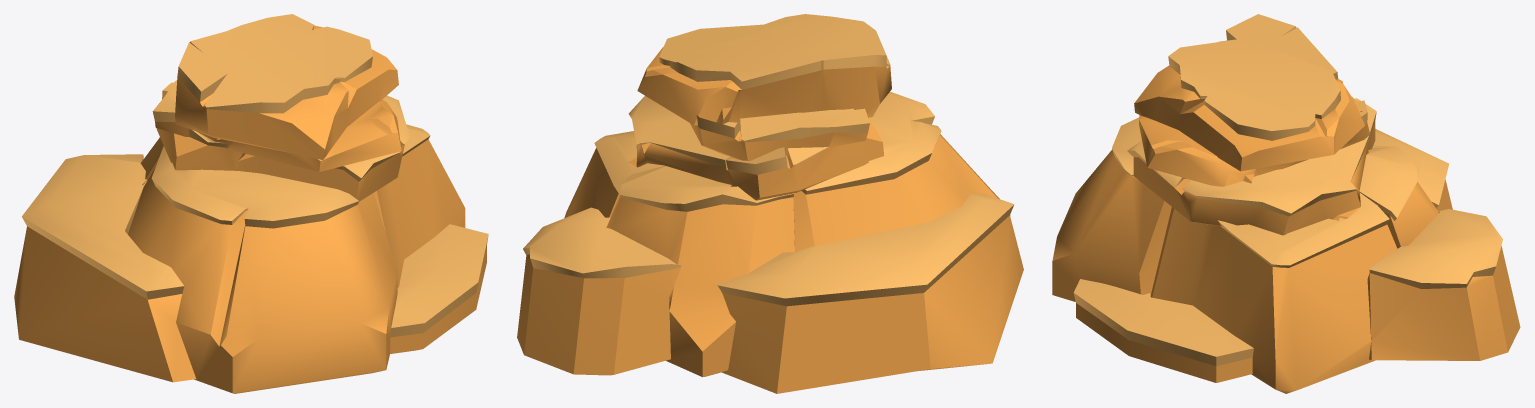
Rendered from Rock_13.fbx.
3 views of the same model, side by side, from view 1: azimuth 30°, elevation 25°; view 2: azimuth 150°, elevation 25°; view 3: azimuth 270°, elevation 25° (orthographic). The views are drawn at different scales.
Parts seen in each view (by area): view 1: Rock_13, Rock_13_Snow; view 2: Rock_13, Rock_13_Snow; view 3: Rock_13, Rock_13_Snow.
Boxes of the visible parts, left/top/right/bottom form: Rock_13: left=14, top=25, right=486, bottom=393; Rock_13_Snow: left=22, top=14, right=488, bottom=337; Rock_13: left=517, top=47, right=1023, bottom=393; Rock_13_Snow: left=523, top=14, right=1014, bottom=306; Rock_13: left=1052, top=65, right=1520, bottom=393; Rock_13_Snow: left=1073, top=14, right=1502, bottom=366.
Size of the model in its own units: 497 by 286 by 489.
